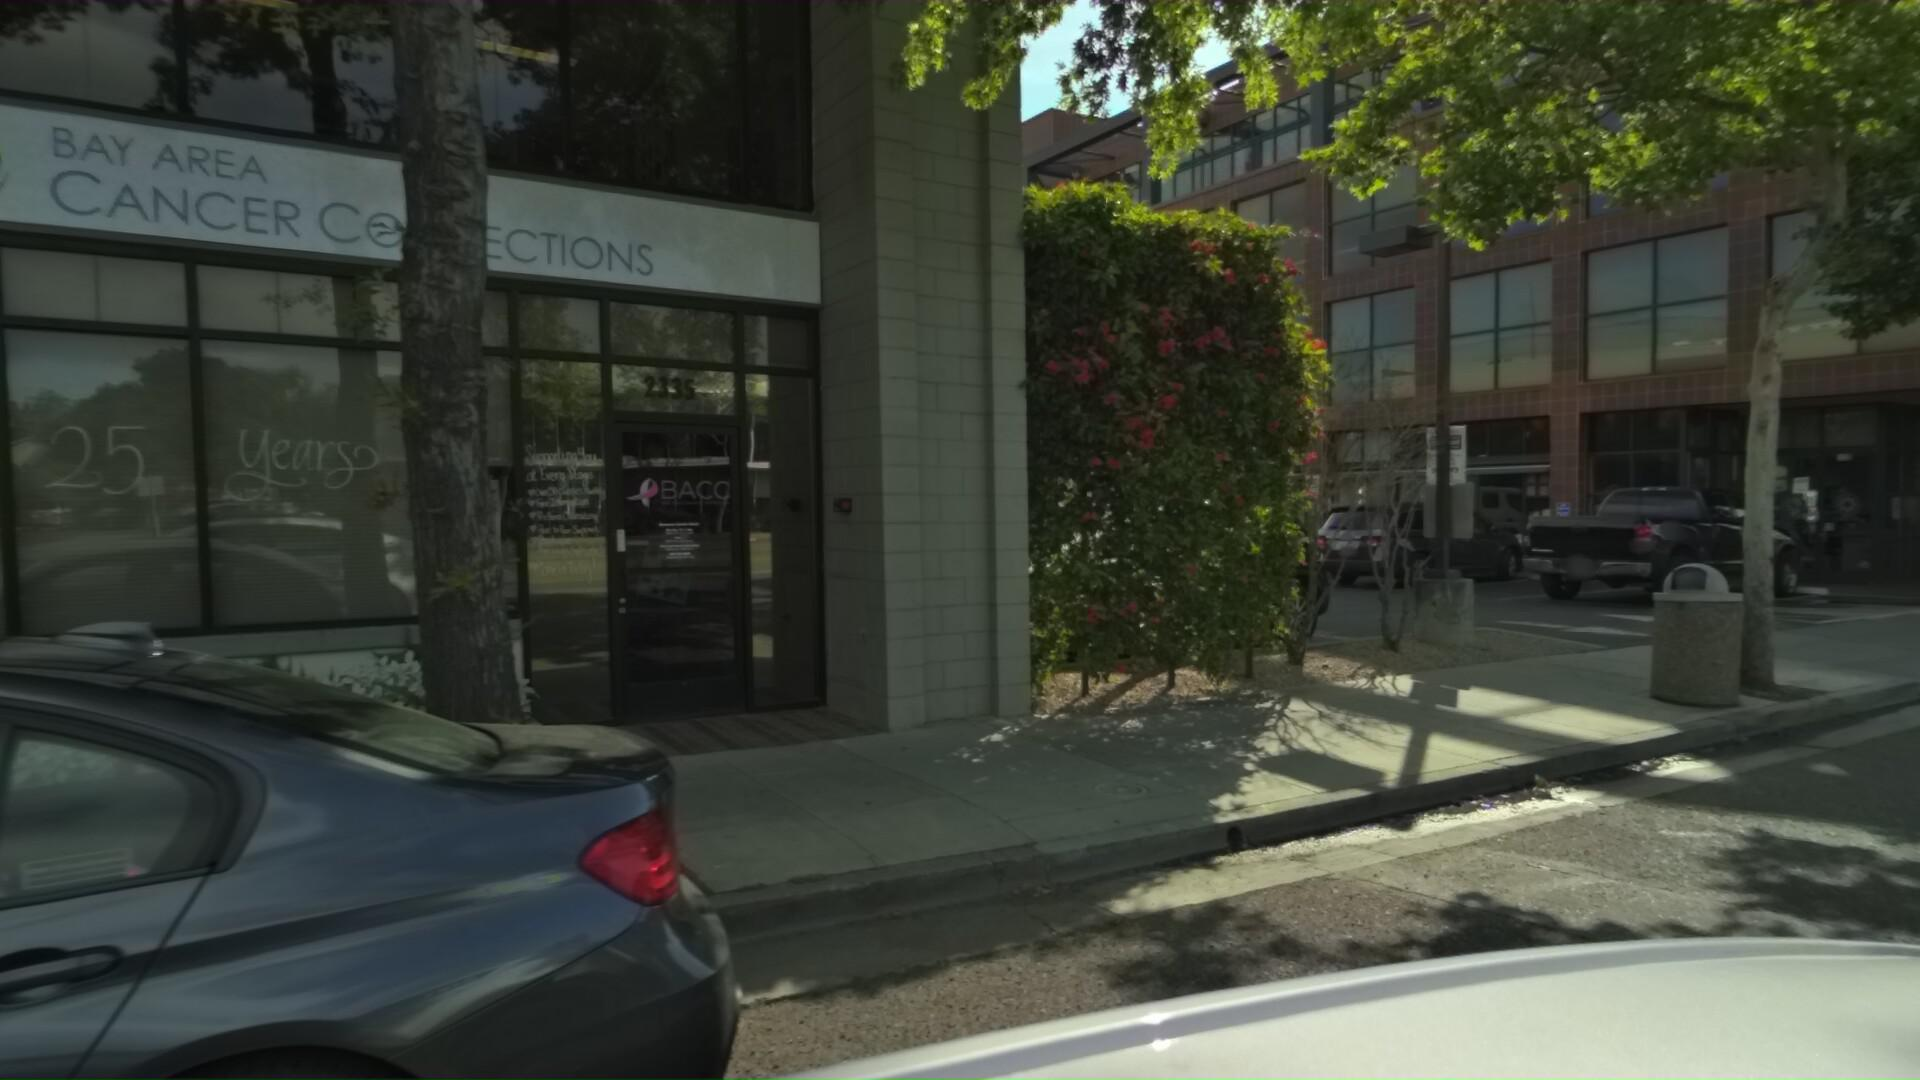car: (0, 553, 1014, 1080), (948, 505, 1394, 688), (1527, 487, 1834, 618)
